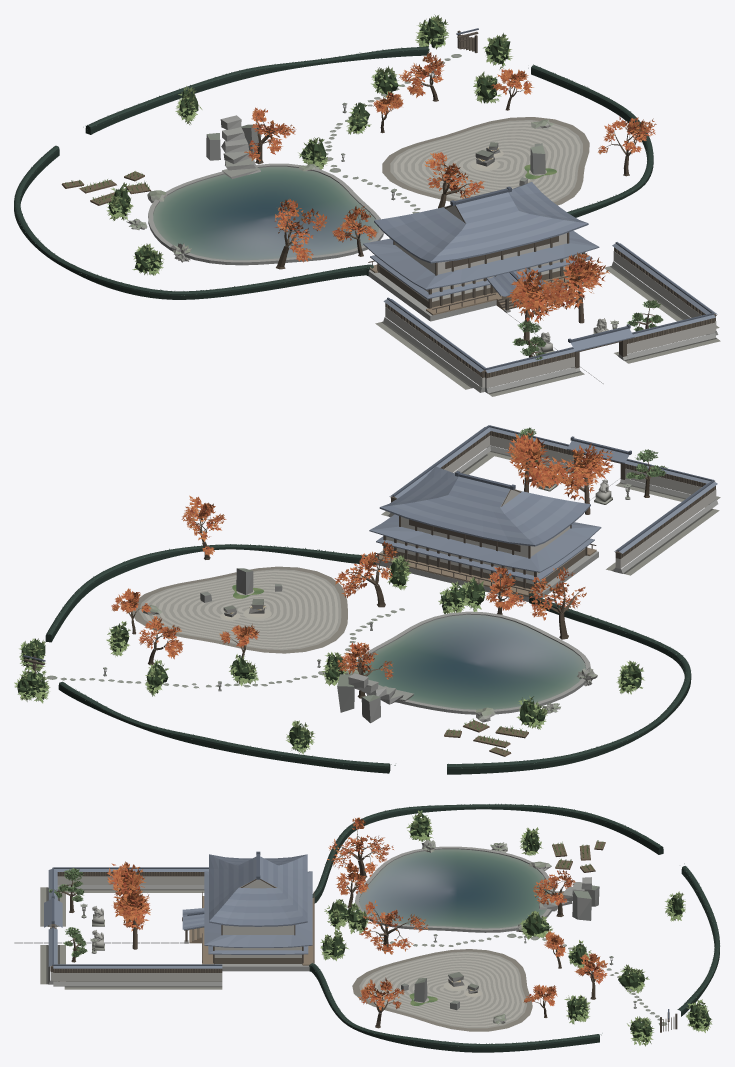
Rendered from hieda_blockout.glb.
The picture shows the model from 3 angles, top to bottom: view 1: azimuth 30°, elevation 25°; view 2: azimuth 150°, elevation 25°; view 3: azimuth 270°, elevation 25°; orthographic projection. The views are drawn at different scales.
Parts seen in each view (by area): view 1: hieda_blockout; view 2: hieda_blockout; view 3: hieda_blockout.
Boxes of the visible parts, box(x1,y1,x2,y2) form: hieda_blockout: box(14, 14, 720, 396); hieda_blockout: box(14, 425, 720, 774); hieda_blockout: box(14, 803, 720, 1052).
Bounding box in the file's own units: 96.46 × 14.7 × 117.
